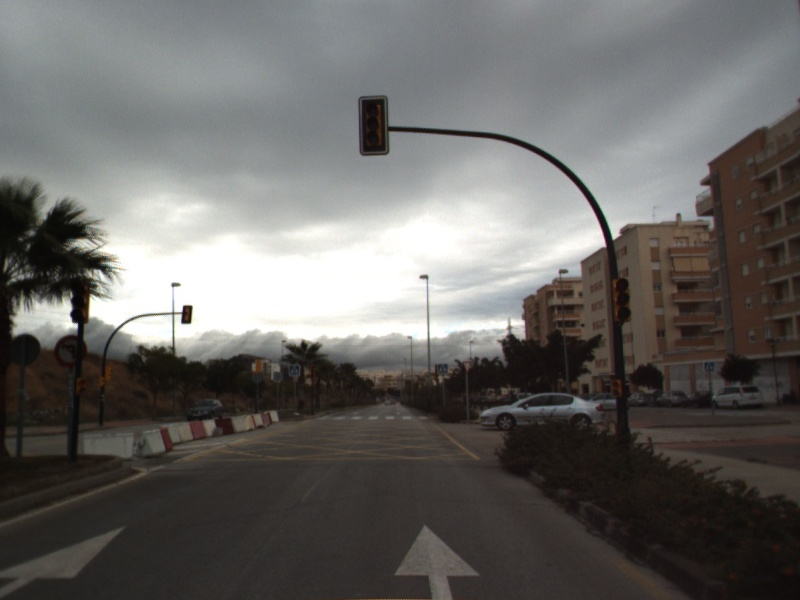STRAIGHT: (1, 523, 130, 600), (392, 521, 484, 600)
